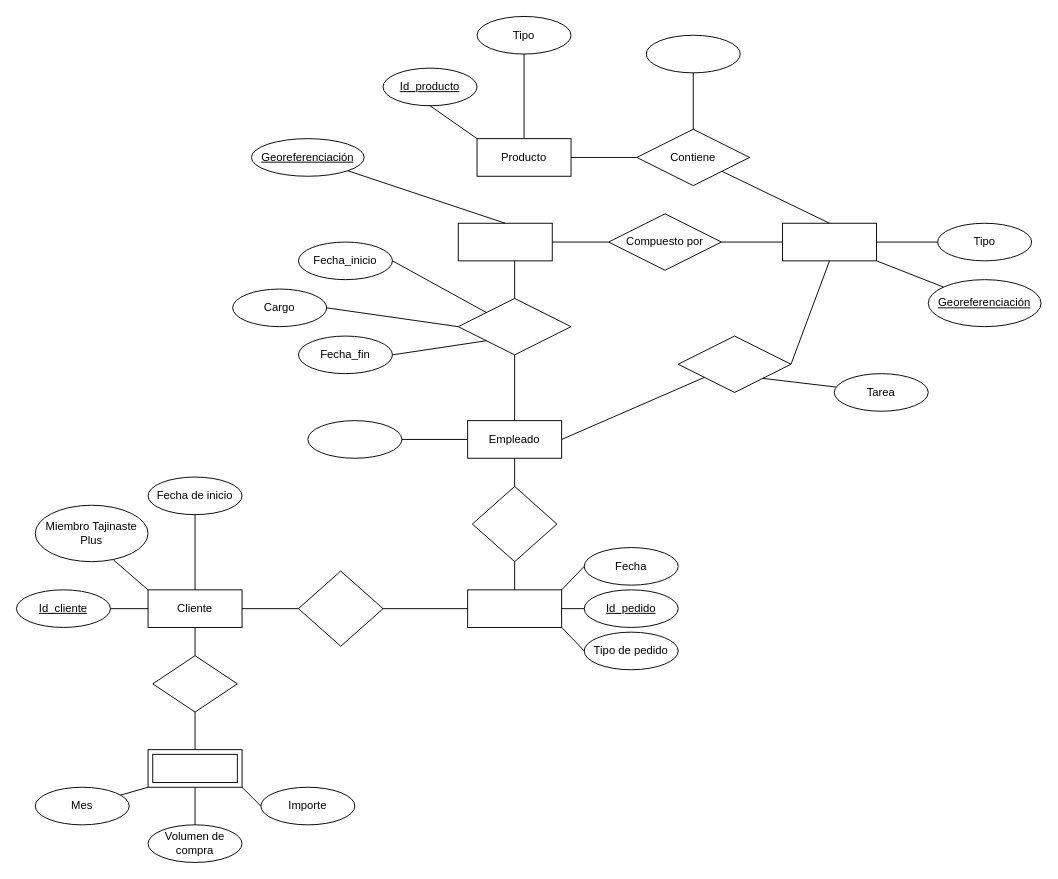
This 1058x879 diagram has some shape labels left out. Here are the shapes that lost their labels. From the top down, the box of each, then its label:
(645, 34, 740, 73): Cantidad
(457, 222, 552, 261): Vivero
(782, 222, 877, 261): Zona
(457, 298, 571, 355): Destinado a ...
(677, 335, 791, 392): Trabaja en
(307, 420, 402, 458): Id_empleado
(471, 486, 557, 562): Gestiona
(298, 570, 383, 646): Realiza
(467, 589, 562, 627): Pedido
(152, 655, 237, 712): Recibe
(147, 749, 242, 787): Bonificación
